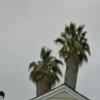Tree: (24, 11, 89, 84)
